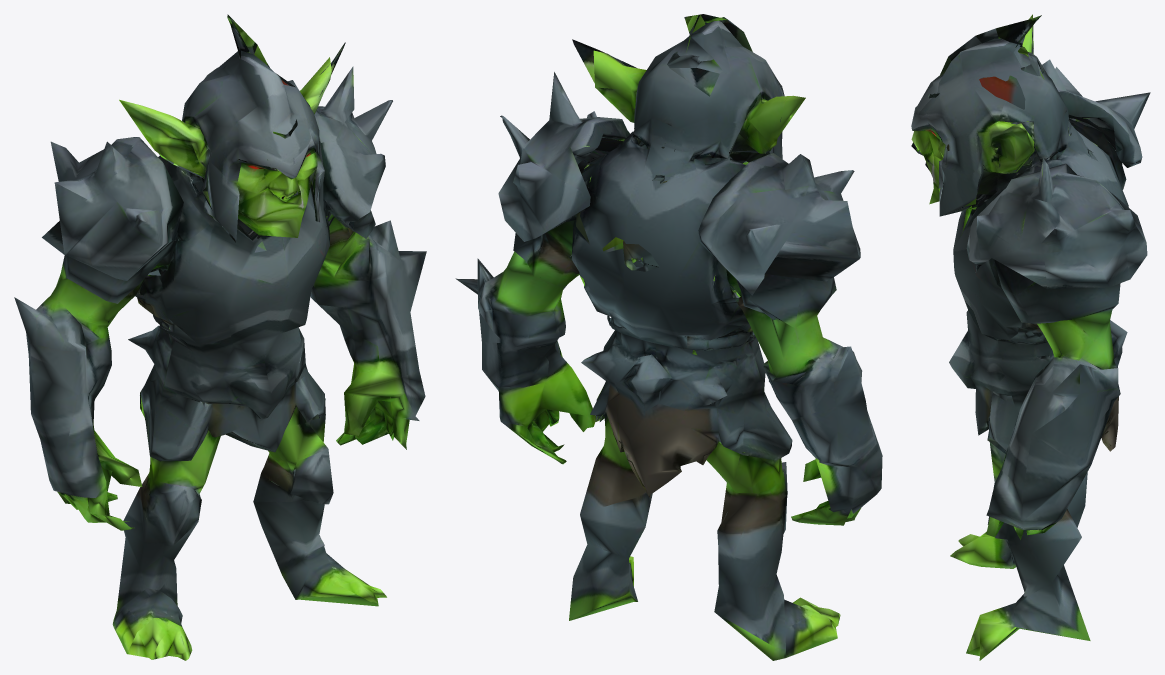
Rendered from mf_voidwarden.glb.
3 views of the same model, side by side, from view 1: azimuth 30°, elevation 25°; view 2: azimuth 150°, elevation 25°; view 3: azimuth 270°, elevation 25° (orthographic). The views are drawn at different scales.
Visible parts, largest first — view 1: Model; view 2: Model; view 3: Model.
Part boxes in pixels (x1,y1,x2,y2): Model: (14,14,426,660); Model: (455,14,882,660); Model: (911,14,1150,660).
Bounding box in the file's own units: 1.33 × 1.89 × 0.7009.
1 material, 1 textured.
